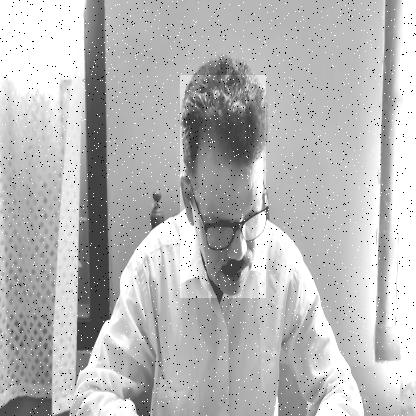Distracted: (180, 75, 266, 298)
